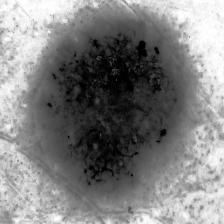Benign Marking or Mole: (43, 23, 183, 190)
